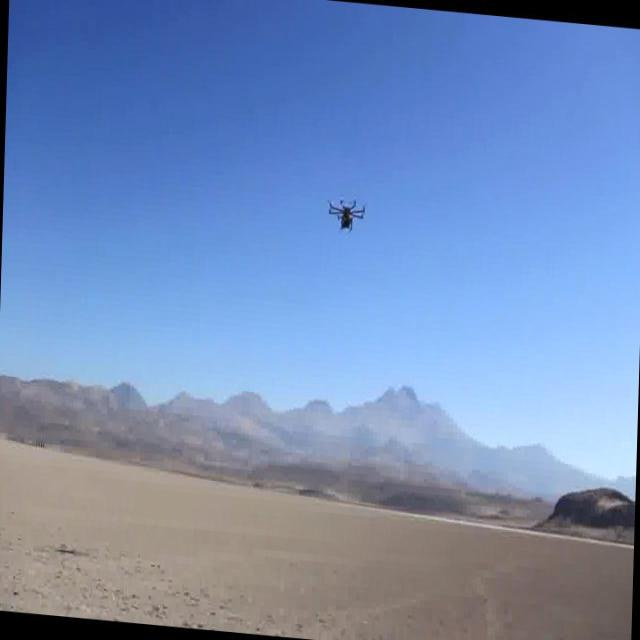drone: (324, 186, 368, 237)
